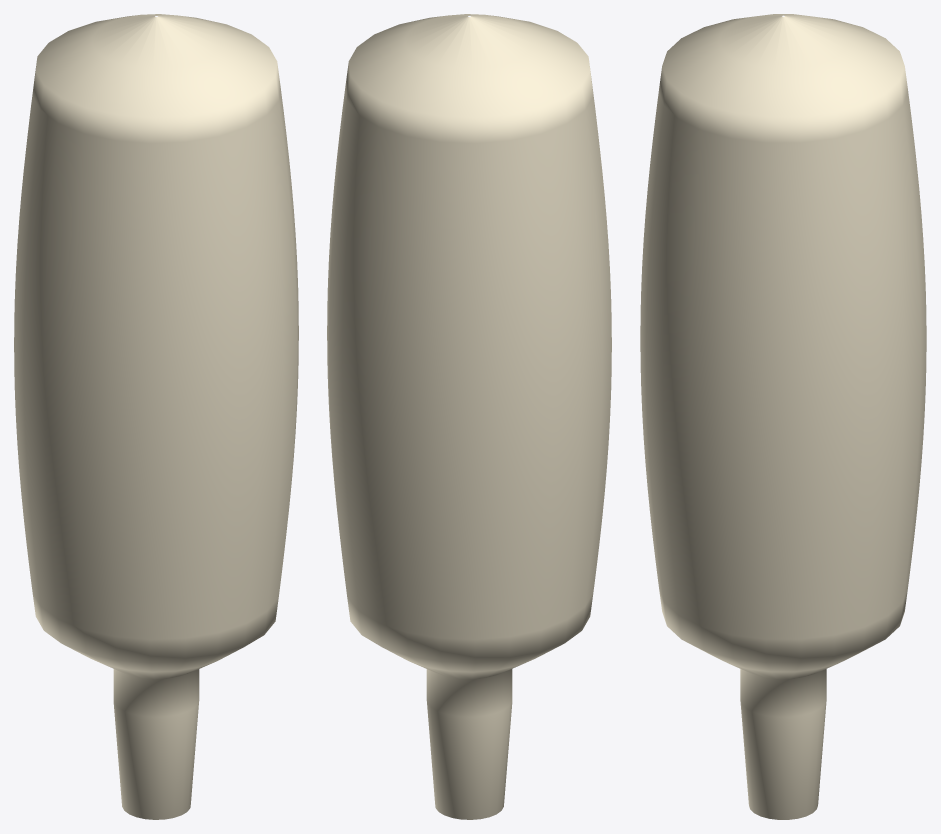
File: tusa-tierno.glb
3 renders of one model, left to right at view 1: azimuth 30°, elevation 25°; view 2: azimuth 150°, elevation 25°; view 3: azimuth 270°, elevation 25°, orthographic.
Parts seen in each view (by area): view 1: tusa; view 2: tusa; view 3: tusa.
Part boxes in pixels (x1,y1,x2,y2): tusa: [14, 14, 298, 819]; tusa: [327, 14, 611, 819]; tusa: [640, 14, 926, 819].
Size of the model in its own units: 0.8196 by 2.56 by 0.828.
